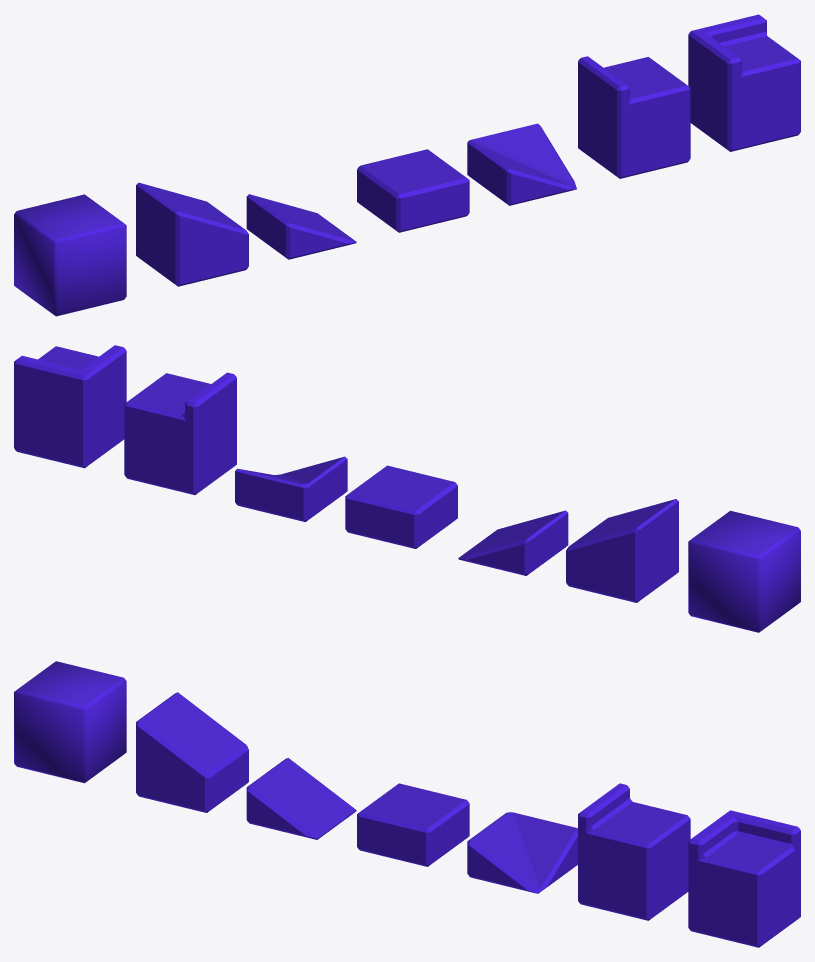
Rendered from block1.glb.
The picture shows the model from 3 angles, top to bottom: view 1: azimuth 30°, elevation 25°; view 2: azimuth 150°, elevation 25°; view 3: azimuth 330°, elevation 25°; orthographic projection.
Visible parts, largest first — view 1: BlockWallCorner, BlockWall, Block, RampTop, BlockShort, RampLowerCorner, RampBottom; view 2: BlockWallCorner, BlockWall, Block, RampTop, BlockShort, RampLowerCorner, RampBottom; view 3: BlockWallCorner, BlockWall, Block, RampTop, BlockShort, RampLowerCorner, RampBottom.
Boxes of the visible parts, <box> form: BlockWallCorner: <box>688,14,800,151</box>; BlockWall: <box>578,56,690,178</box>; Block: <box>14,194,126,316</box>; RampTop: <box>136,182,248,286</box>; BlockShort: <box>357,149,469,232</box>; RampLowerCorner: <box>467,123,576,205</box>; RampBottom: <box>246,194,356,259</box>; BlockWallCorner: <box>14,345,126,468</box>; BlockWall: <box>124,372,236,494</box>; Block: <box>688,510,800,632</box>; RampTop: <box>566,499,678,602</box>; BlockShort: <box>345,465,457,548</box>; RampLowerCorner: <box>235,456,347,521</box>; RampBottom: <box>458,510,568,575</box>; BlockWallCorner: <box>688,810,800,947</box>; BlockWall: <box>578,783,690,920</box>; Block: <box>14,661,126,783</box>; RampTop: <box>136,692,248,812</box>; BlockShort: <box>357,783,469,866</box>; RampLowerCorner: <box>467,812,577,893</box>; RampBottom: <box>246,758,356,839</box>.
Size of what is drawn, in the model's own units: 20.32 by 2.4 by 2.
